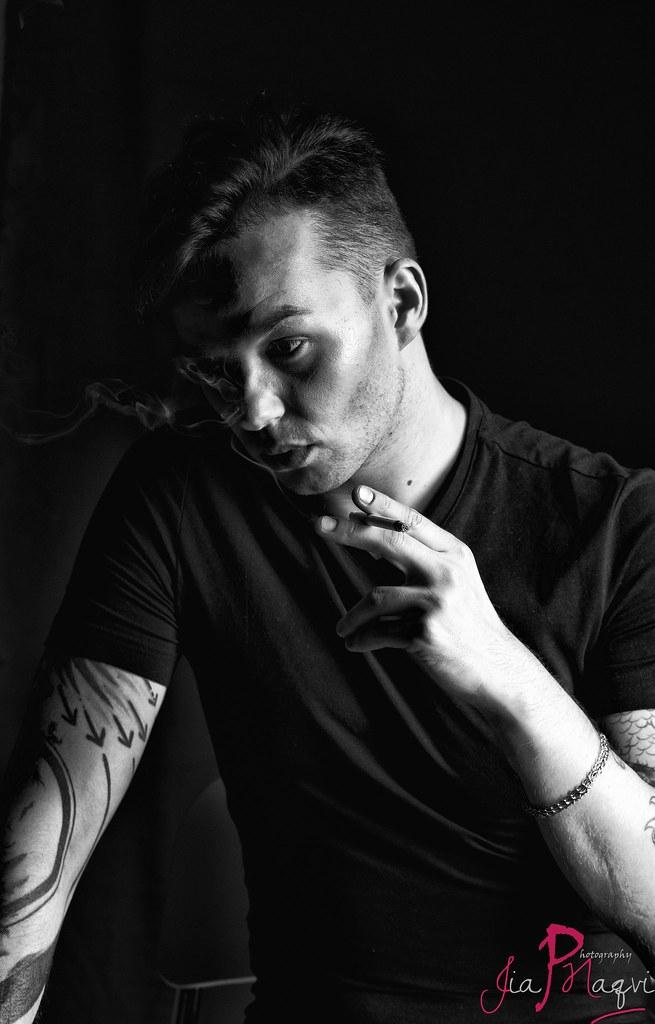cigarette: (348, 509, 412, 534)
